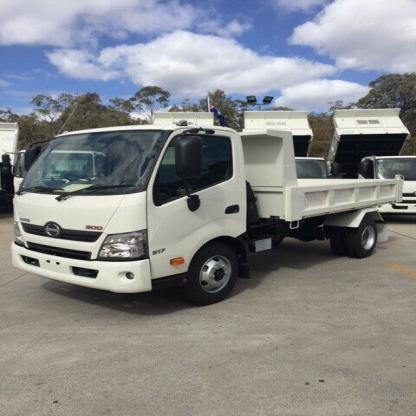dump_truck: (2, 122, 415, 310)
